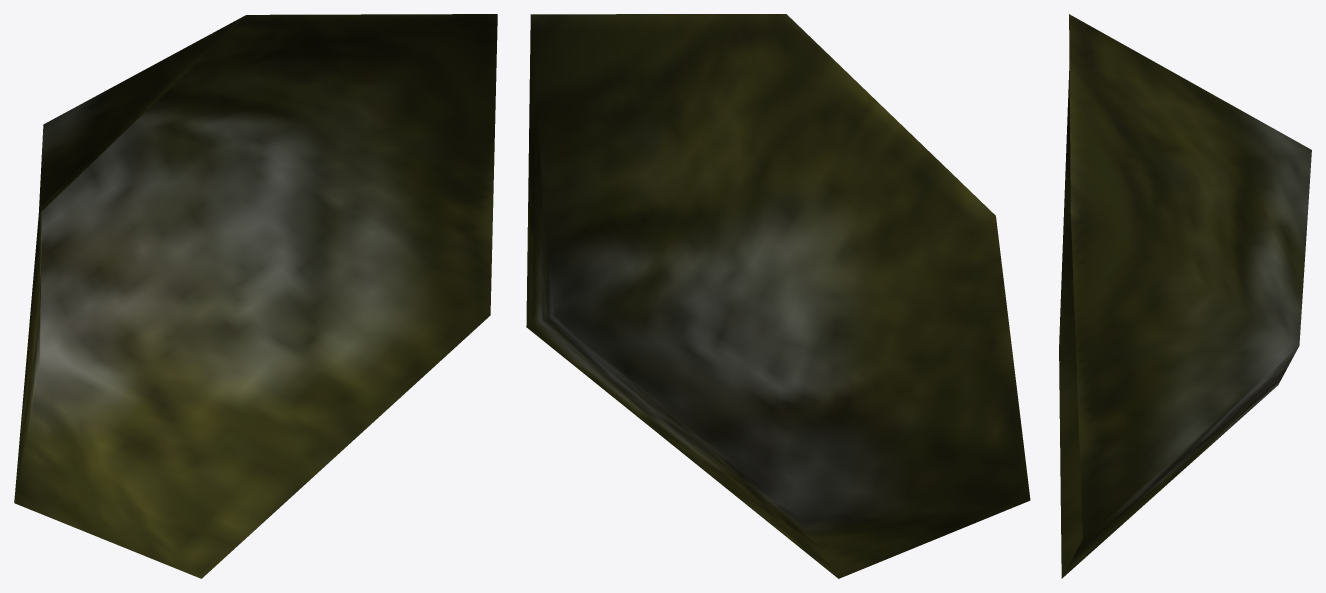
The model's file is MEP_GroundRocks_01_k.fbx.
The picture shows the model from 3 angles, left to right: view 1: azimuth 30°, elevation 25°; view 2: azimuth 150°, elevation 25°; view 3: azimuth 270°, elevation 25°; orthographic projection. The views are drawn at different scales.
Visible parts, largest first — view 1: MEP_GroundRock_01_k; view 2: MEP_GroundRock_01_k; view 3: MEP_GroundRock_01_k.
Boxes of the visible parts, x1=… form: MEP_GroundRock_01_k: x1=14, y1=14, x2=497, y2=578; MEP_GroundRock_01_k: x1=526, y1=14, x2=1030, y2=578; MEP_GroundRock_01_k: x1=1059, y1=14, x2=1311, y2=578.
Bounding box in the file's own units: 0.6013 × 0.6459 × 0.2509.
